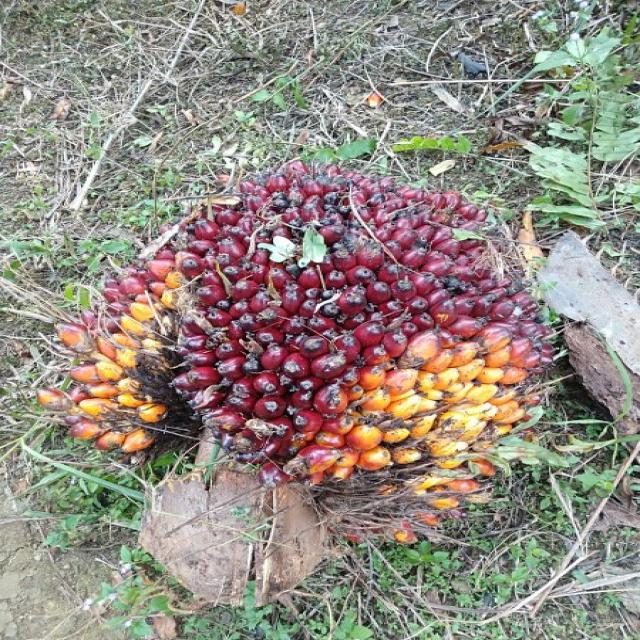fraksi 1: (27, 132, 591, 538)
